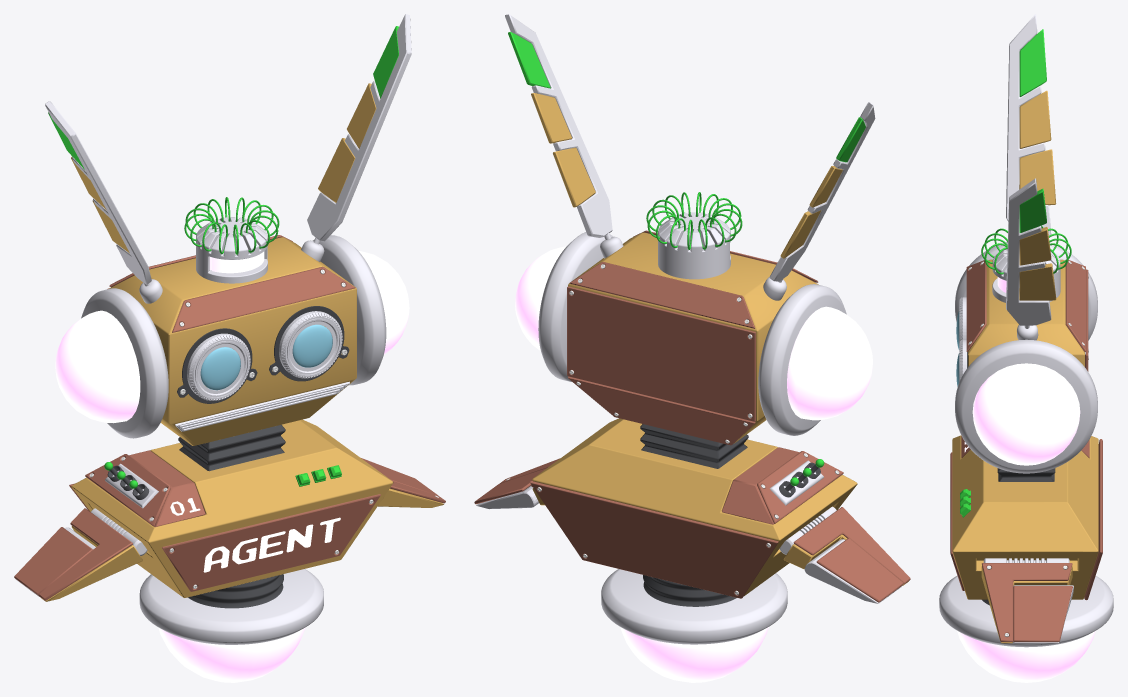
File: bee_bot3.glb
3 renders of one model, left to right at view 1: azimuth 30°, elevation 25°; view 2: azimuth 150°, elevation 25°; view 3: azimuth 270°, elevation 25°, orthographic. The views are drawn at different scales.
Visible parts, largest first — view 1: Cube.026; view 2: Cube.026; view 3: Cube.026.
Boxes of the visible parts, bbox=[...] form: Cube.026: bbox=[14, 14, 445, 682]; Cube.026: bbox=[474, 14, 910, 682]; Cube.026: bbox=[939, 14, 1113, 682].
Size of the model in its own units: 0.6986 by 1.02 by 0.278.
